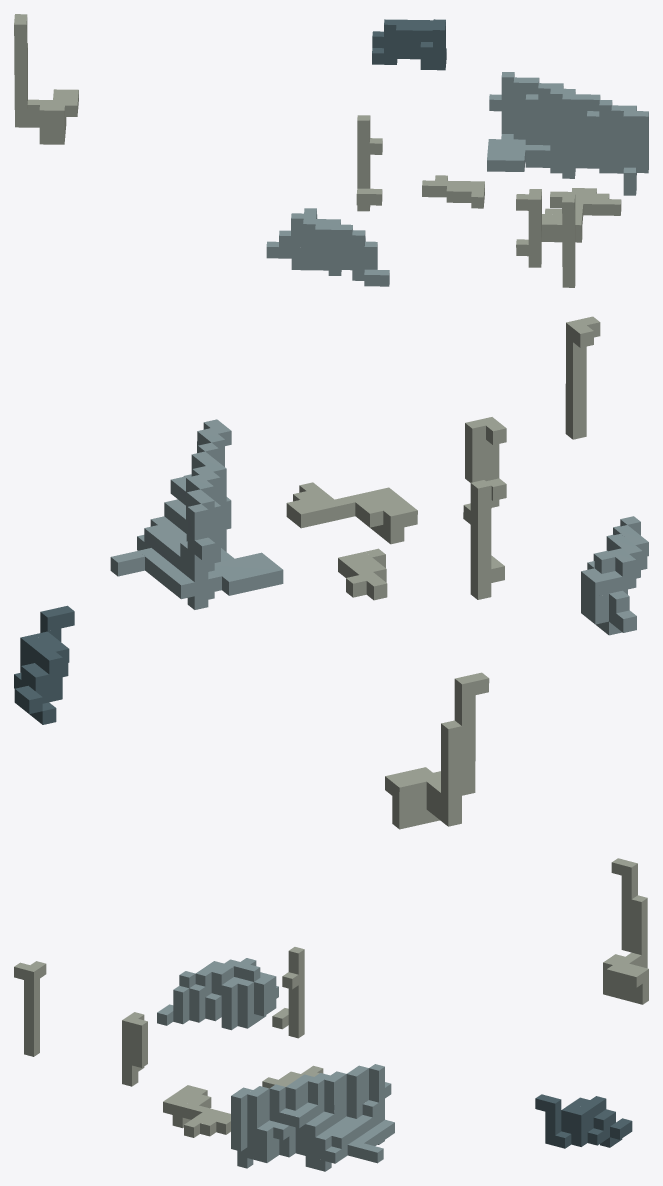
3 views of the same model, one above another, from view 1: azimuth 30°, elevation 25°; view 2: azimuth 150°, elevation 25°; view 3: azimuth 270°, elevation 25° (orthographic). The views are drawn at different scales.
Visible parts, largest first — view 1: measured-industrial; view 2: measured-industrial; view 3: measured-industrial.
Boxes of the visible parts, x1,y1,x2,y2 form: measured-industrial: (14,14,648,287); measured-industrial: (14,316,648,829); measured-industrial: (14,858,648,1171).
Size of the model in its own units: 40.36 by 11.01 by 54.2.
